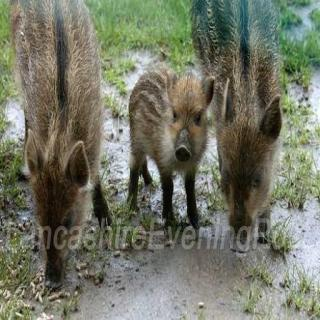Pig: (175, 0, 305, 245), (27, 2, 120, 291), (119, 56, 217, 252)
